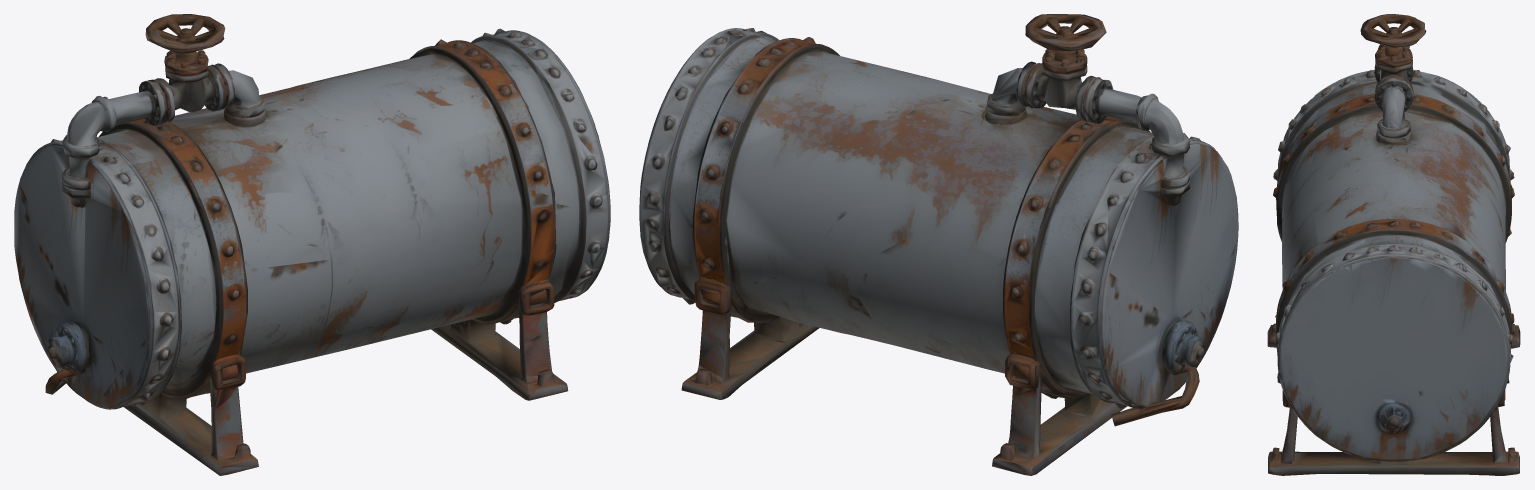
File: lhi_water_cistern.glb
3 views of the same model, side by side, from view 1: azimuth 30°, elevation 25°; view 2: azimuth 150°, elevation 25°; view 3: azimuth 270°, elevation 25° (orthographic). The views are drawn at different scales.
Visible parts, largest first — view 1: material; view 2: material; view 3: material.
Boxes of the visible parts, x1=… form: material: x1=14, y1=14, x2=610, y2=475; material: x1=639, y1=14, x2=1238, y2=475; material: x1=1267, y1=14, x2=1520, y2=475.
Size of the model in its own units: 1.04 by 0.7571 by 0.5344.
Materials: 1 (1 with a texture image).
